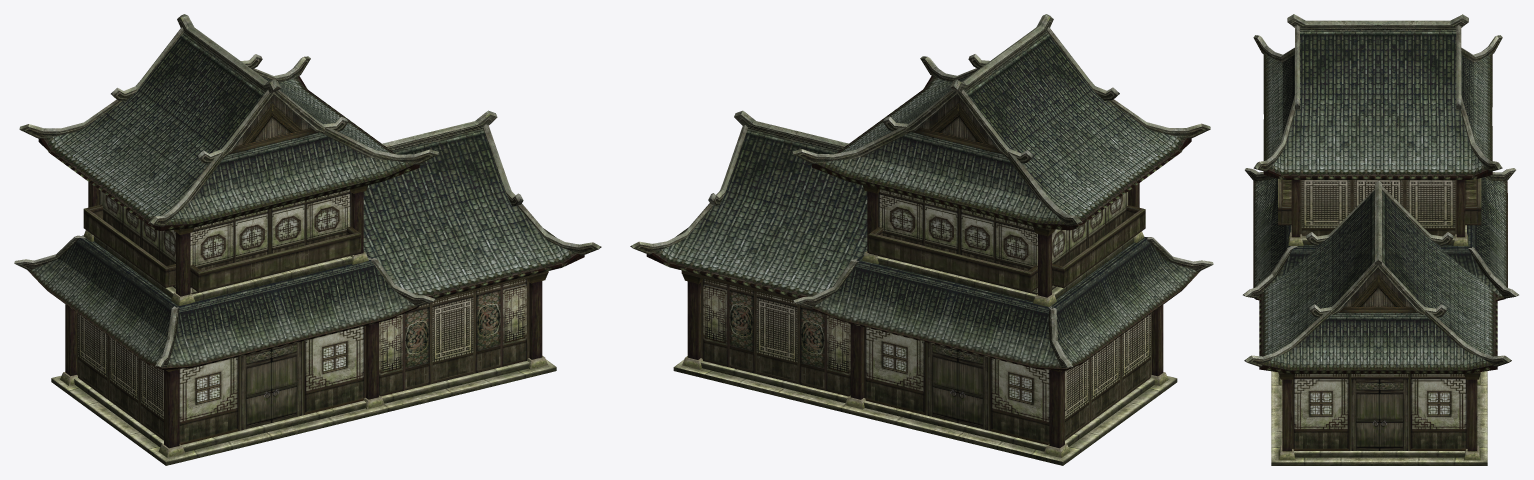
File: ob-10-03-house01.fbx
3 views of the same model, side by side, from view 1: azimuth 30°, elevation 25°; view 2: azimuth 150°, elevation 25°; view 3: azimuth 270°, elevation 25° (orthographic). The views are drawn at different scales.
Parts seen in each view (by area): view 1: ob-10-03-house01-01, ob-10-03-house01-02; view 2: ob-10-03-house01-01, ob-10-03-house01-02; view 3: ob-10-03-house01-01, ob-10-03-house01-02.
Part boxes in pixels (x1,y1,x2,y2): ob-10-03-house01-01: [14, 14, 601, 370]; ob-10-03-house01-02: [51, 182, 556, 465]; ob-10-03-house01-01: [630, 14, 1213, 370]; ob-10-03-house01-02: [673, 183, 1177, 465]; ob-10-03-house01-01: [1243, 14, 1518, 373]; ob-10-03-house01-02: [1271, 178, 1487, 465].
Bounding box in the file's own units: 16.07 × 11.94 × 9.15.
